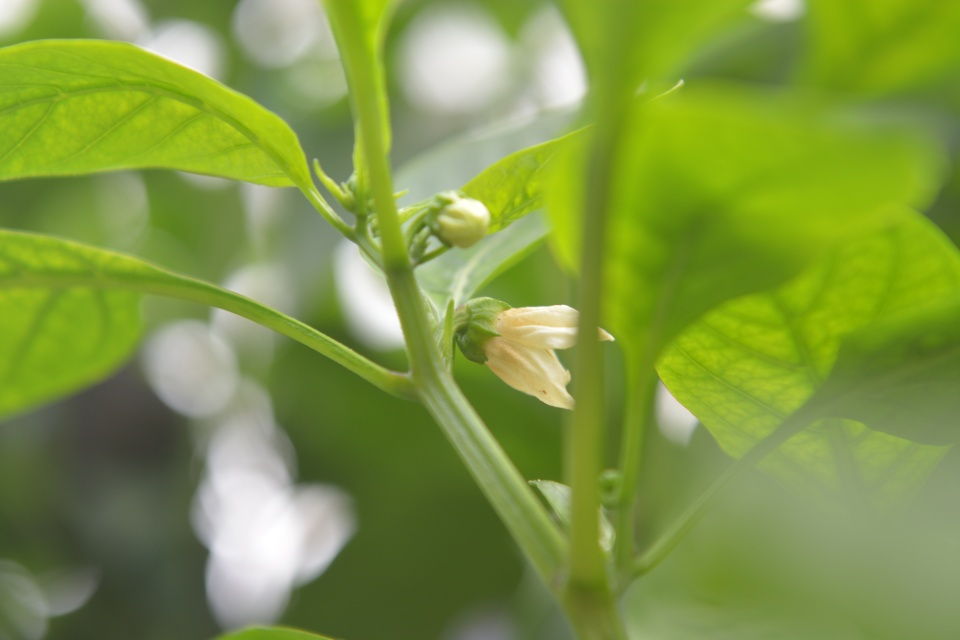flower: (474, 297, 616, 409)
